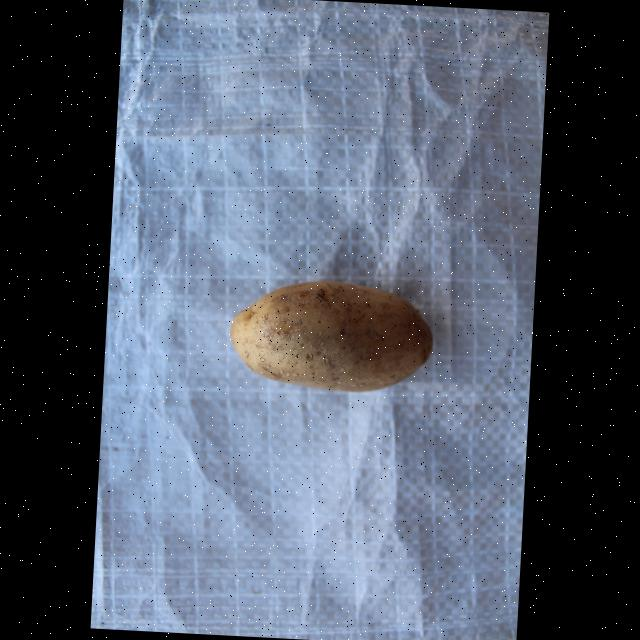Diseased-fungal potato: (226, 273, 437, 398)
